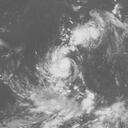cyclone: (42, 47, 81, 83)
